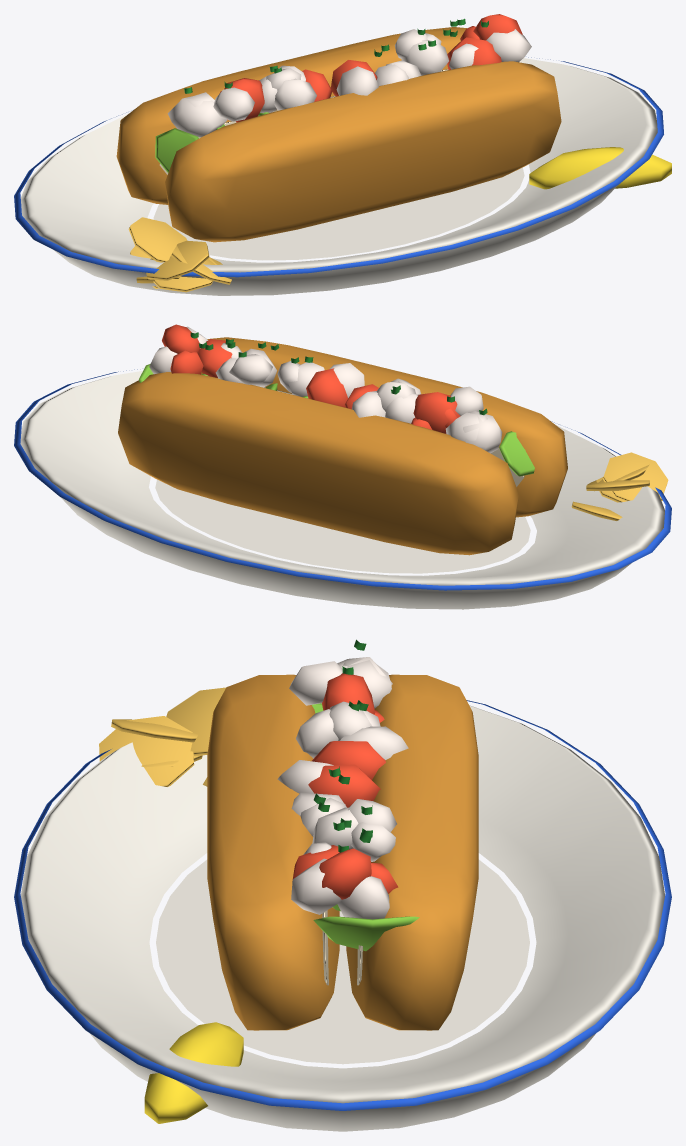
The picture shows the model from 3 angles, top to bottom: view 1: azimuth 30°, elevation 25°; view 2: azimuth 150°, elevation 25°; view 3: azimuth 270°, elevation 25°; orthographic projection. The views are drawn at different scales.
Parts seen in each view (by area): view 1: bun (×2), plate, crab (×15), plate_well, band, chips (×4), lime, lettuce; view 2: bun (×2), plate, crab (×16), plate_well, band, chips (×3), lettuce; view 3: plate, bun (×2), plate_well, crab (×15), band, chips (×3), lime, lettuce.
Part boxes in pixels (left/top/right/bottom): bun (×2): left=116, top=27, right=561, bottom=242; plate: left=20, top=58, right=657, bottom=295; crab (×15): left=167, top=14, right=531, bottom=137; plate_well: left=153, top=167, right=524, bottom=260; band: left=14, top=57, right=663, bottom=277; chips (×4): left=128, top=217, right=231, bottom=292; lime: left=529, top=147, right=671, bottom=189; lettuce: left=155, top=128, right=198, bottom=172; bun (×2): left=118, top=337, right=567, bottom=555; plate: left=20, top=371, right=664, bottom=609; crab (×16): left=149, top=324, right=502, bottom=453; plate_well: left=155, top=479, right=530, bottom=573; band: left=14, top=369, right=671, bottom=590; chips (×3): left=571, top=452, right=668, bottom=520; lettuce: left=499, top=431, right=534, bottom=476; plate: left=21, top=705, right=664, bottom=1131; bun (×2): left=207, top=674, right=478, bottom=1030; plate_well: left=156, top=859, right=529, bottom=1064; crab (×15): left=277, top=659, right=408, bottom=919; band: left=14, top=700, right=671, bottom=1110; chips (×3): left=99, top=687, right=226, bottom=786; lime: left=144, top=1022, right=243, bottom=1123; lettuce: left=313, top=916, right=419, bottom=951.
Size of the model in its own units: 0.204 by 0.053 by 0.1326.
